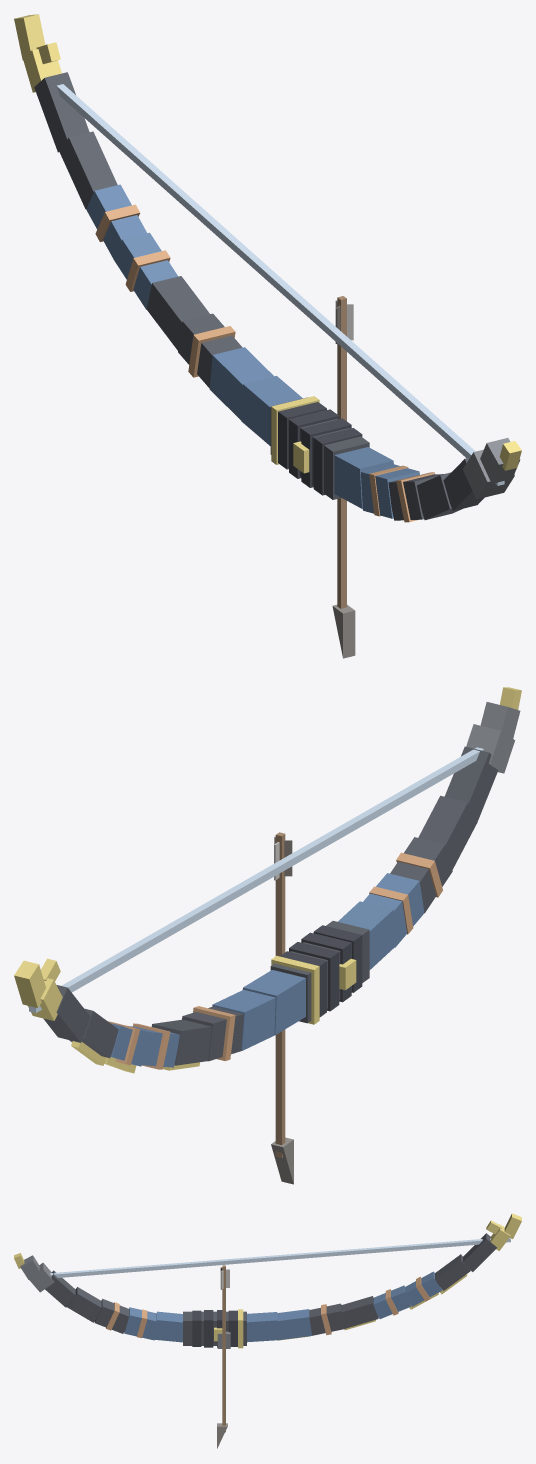
Rendered from art_stormstrider_longbow.fbx.
The picture shows the model from 3 angles, top to bottom: view 1: azimuth 30°, elevation 25°; view 2: azimuth 150°, elevation 25°; view 3: azimuth 270°, elevation 25°; orthographic projection. The views are drawn at different scales.
Parts seen in each view (by area): view 1: BowString, LimbU_7, LimbU_4, LimbU_2, LimbU_8, LimbU_1, ArrowShaft, LimbU_5, LimbU_6, LimbL_1, LimbU_3, Handle (+14 smaller); view 2: BowString, ArrowShaft, LimbL_4, LimbU_1, LimbU_2, LimbL_5, LimbL_1, LimbL_3, LimbL_2, LimbU_4, Handle, LimbU_8 (+16 smaller); view 3: BowString, LimbU_2, LimbU_1, LimbU_4, LimbL_1, LimbU_3, Handle, LimbL_4, LimbL_2, LimbU_7, LimbL_3, LimbU_5 (+9 smaller).
Boxes of the visible parts, bbox=[...] form: BowString: bbox=[56, 84, 504, 485]; LimbU_7: bbox=[59, 131, 117, 209]; LimbU_4: bbox=[146, 276, 209, 350]; LimbU_2: bbox=[209, 347, 273, 420]; LimbU_8: bbox=[34, 72, 89, 152]; LimbU_1: bbox=[241, 376, 302, 445]; ArrowShaft: bbox=[337, 296, 346, 608]; LimbU_5: bbox=[115, 232, 178, 309]; LimbU_6: bbox=[86, 184, 146, 261]; LimbL_1: bbox=[334, 447, 393, 508]; LimbU_3: bbox=[178, 313, 242, 388]; Handle: bbox=[270, 397, 369, 499]; BowString: bbox=[29, 747, 483, 1012]; ArrowShaft: bbox=[275, 832, 285, 1157]; LimbL_4: bbox=[418, 795, 477, 869]; LimbU_1: bbox=[242, 970, 305, 1035]; LimbU_2: bbox=[212, 989, 275, 1050]; LimbL_5: bbox=[444, 746, 498, 821]; LimbL_1: bbox=[338, 901, 395, 969]; LimbL_3: bbox=[390, 837, 452, 912]; LimbL_2: bbox=[363, 873, 424, 947]; LimbU_4: bbox=[151, 1019, 211, 1065]; Handle: bbox=[270, 921, 369, 1023]; LimbU_8: bbox=[43, 985, 90, 1042]; BowString: bbox=[50, 1238, 510, 1277]; LimbU_2: bbox=[277, 1309, 311, 1339]; LimbU_1: bbox=[247, 1312, 278, 1342]; LimbU_4: bbox=[341, 1296, 378, 1328]; LimbL_1: bbox=[154, 1311, 182, 1342]; LimbU_3: bbox=[309, 1303, 345, 1335]; Handle: bbox=[183, 1311, 246, 1345]; LimbL_4: bbox=[67, 1287, 101, 1322]; LimbL_2: bbox=[124, 1307, 156, 1340]; LimbU_7: bbox=[435, 1254, 470, 1290]; LimbL_3: bbox=[94, 1298, 128, 1333]; LimbU_5: bbox=[373, 1285, 411, 1318].
Size of the model in its own units: 0.4285 by 2.72 by 5.57.
